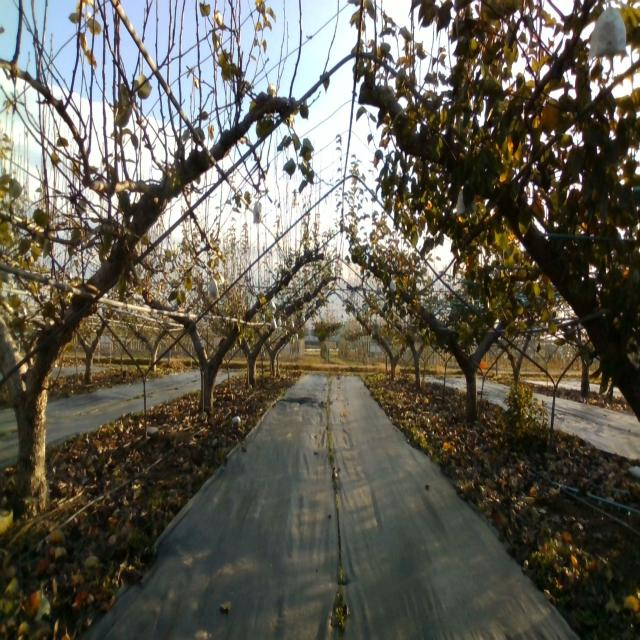pearbags: (586, 6, 630, 63), (208, 272, 220, 298)
